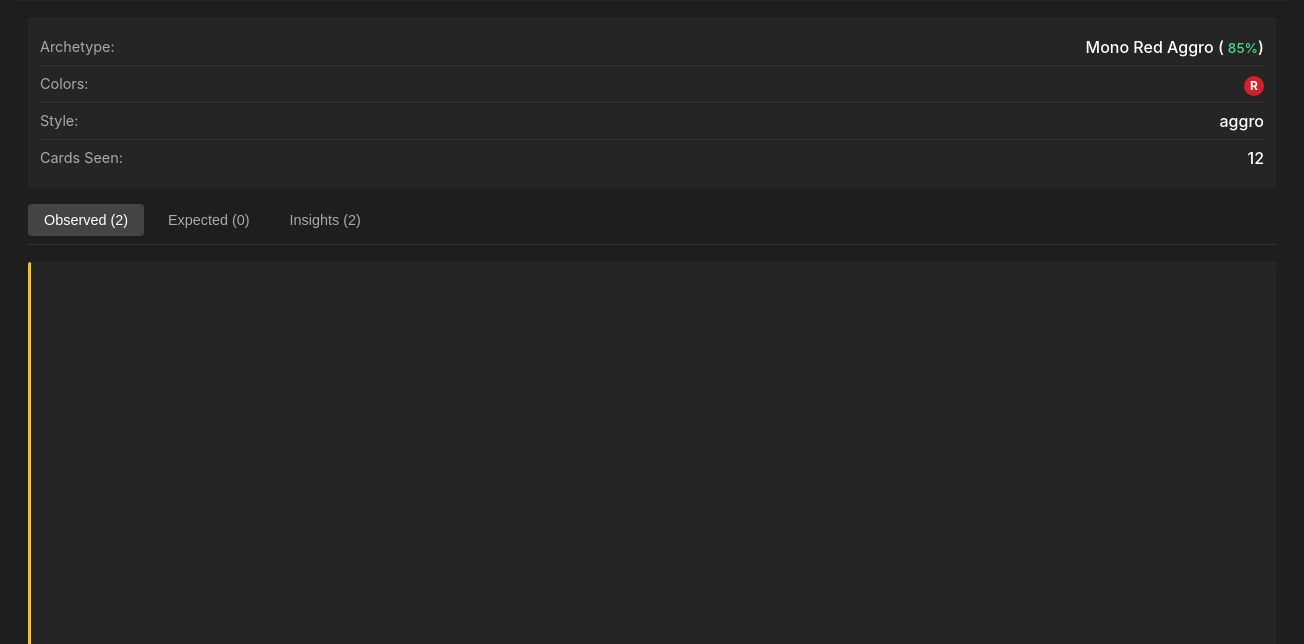
Test case: OpponentAnalysisPanel › handles empty expected cards
Click the tab "Expected (0)" at {"x": 209, "y": 220}, box [152, 204, 266, 236]
(page scrolled)
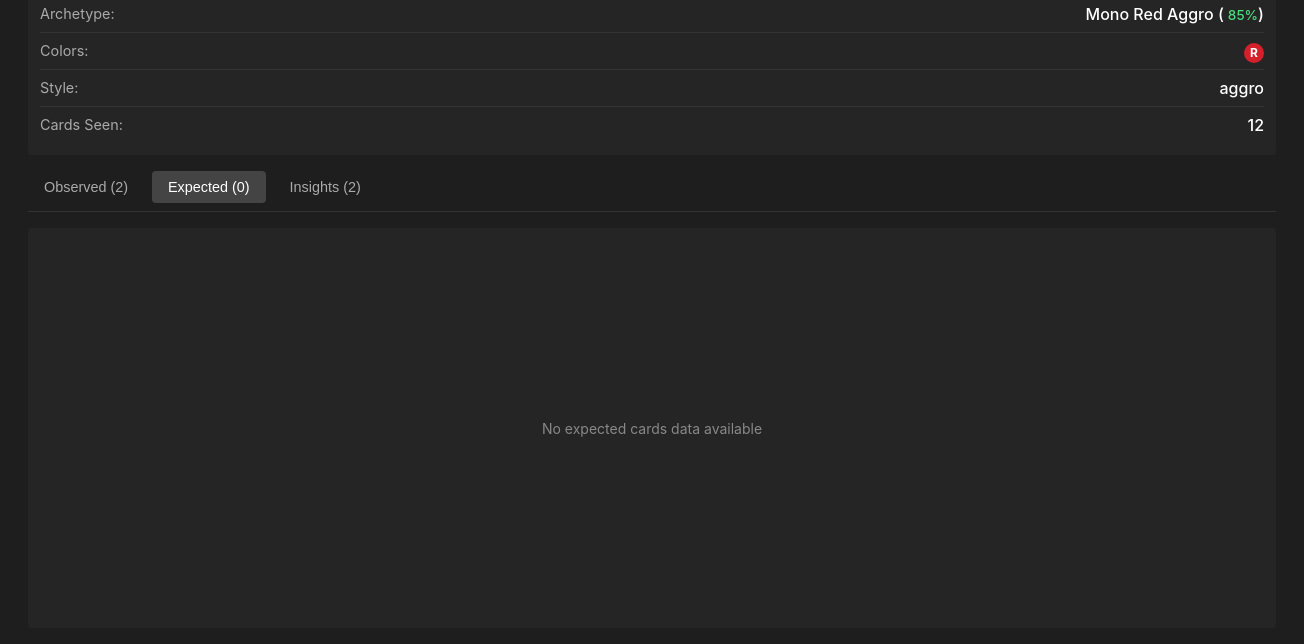
Expected: the text "No expected cards data available" is shown, [28, 228, 1276, 628]
